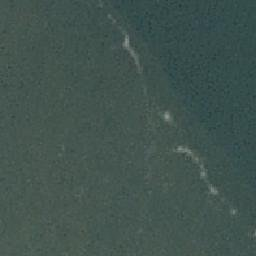cloud: (173, 142, 205, 178), (121, 32, 139, 70), (163, 108, 170, 125), (210, 186, 216, 198)
